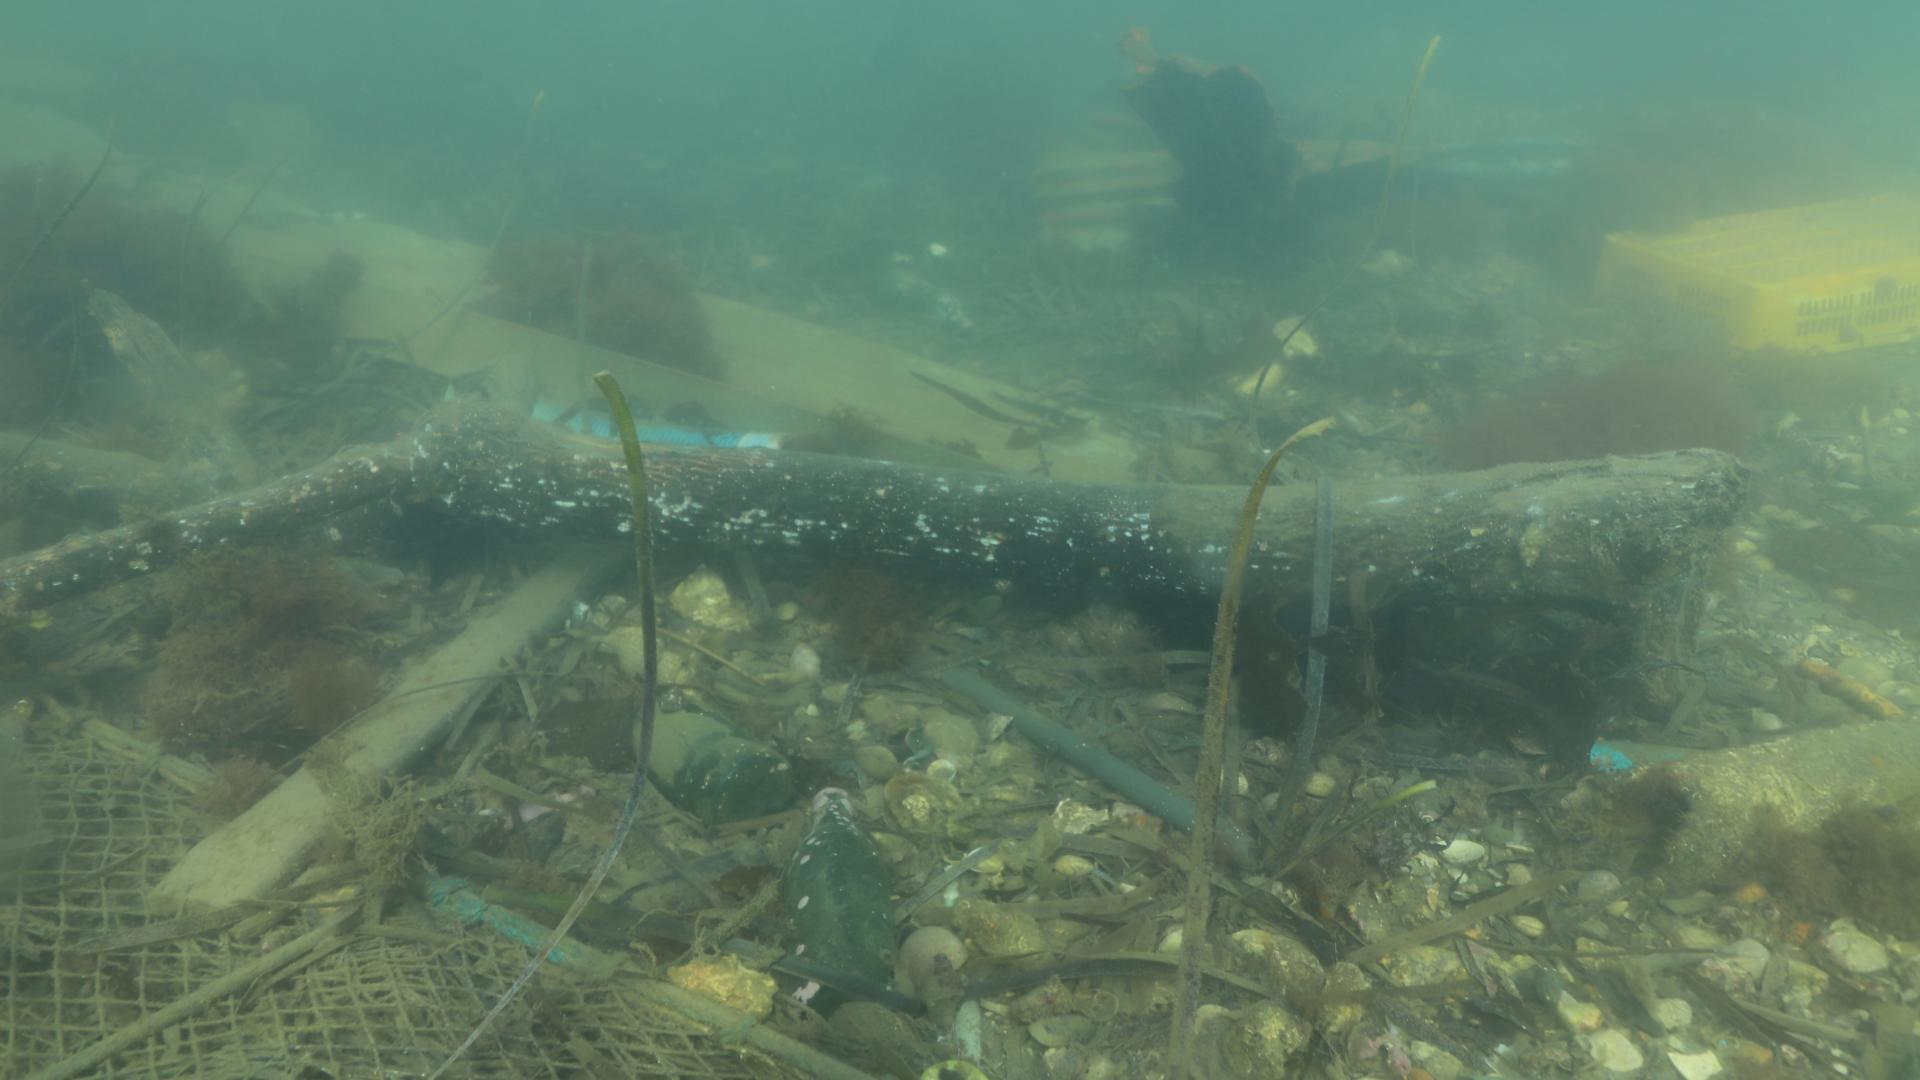wood: (0, 386, 1766, 644)
